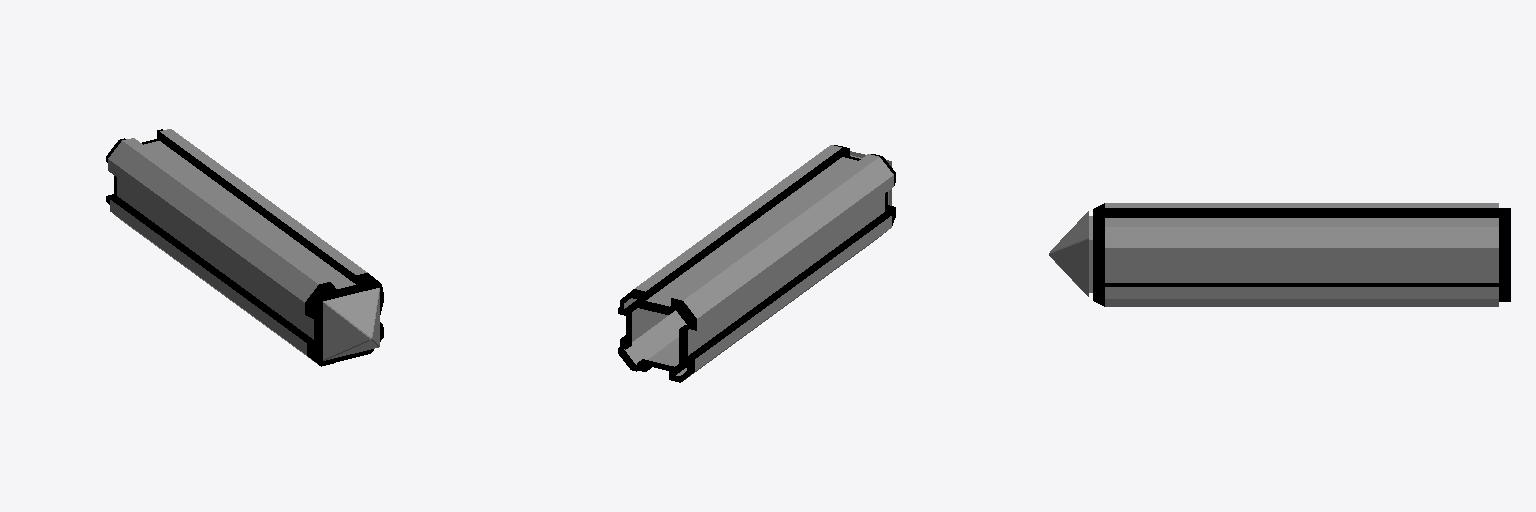
Rendered from skyscraper_windowE_05.obj.
The picture shows the model from 3 angles: view 1: azimuth 30°, elevation 25°; view 2: azimuth 150°, elevation 25°; view 3: azimuth 270°, elevation 25°; orthographic projection.
Visible parts, largest first — view 1: Object64; view 2: Object64; view 3: Object64.
Part boxes in pixels (x1,y1,x2,y2): Object64: (106,129,383,366); Object64: (618,145,895,382); Object64: (1049,203,1510,306).
Bounding box in the file's own units: 44.68 × 45.76 × 231.